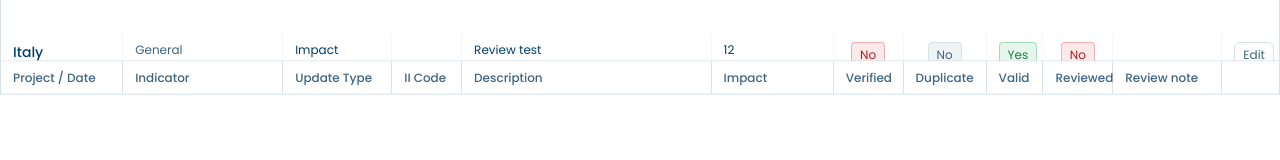
Scenario: a row hidden by the review filter does not retain stale optimistic values
The width and height of the screenshot is (1280, 160).
Later steps or results of the test are not shown.
Click the 3rd button "No": (1078, 55) top-left (1061, 42), bottom-right (1095, 68)
Wait 550 ms
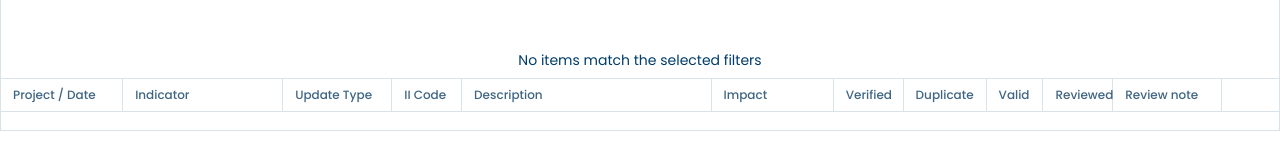
Check: the text "Review test" is gone
